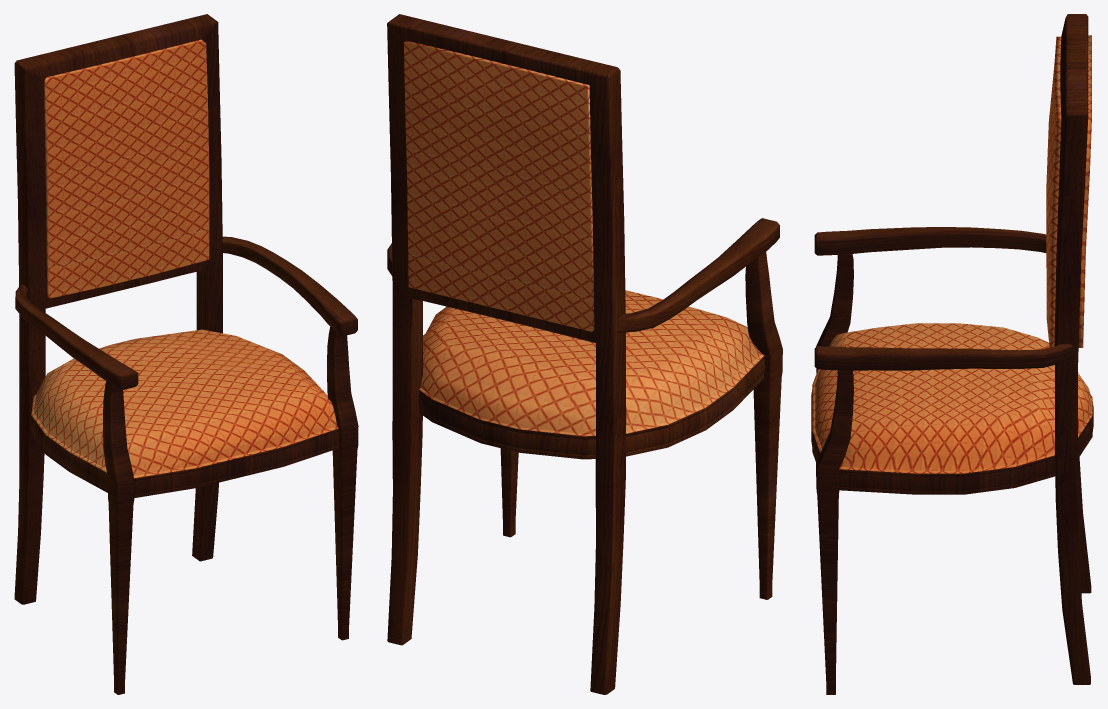
Rendered from Chair.fbx.
The picture shows the model from 3 angles, left to right: view 1: azimuth 30°, elevation 25°; view 2: azimuth 150°, elevation 25°; view 3: azimuth 270°, elevation 25°; orthographic projection. The views are drawn at different scales.
Visible parts, largest first — view 1: Chair; view 2: Chair; view 3: Chair.
Part boxes in pixels (<box>): Chair: <box>14,14,358,694</box>; Chair: <box>387,14,782,694</box>; Chair: <box>811,14,1093,694</box>.
Bounding box in the file's own units: 73.09 × 150 × 67.16.
